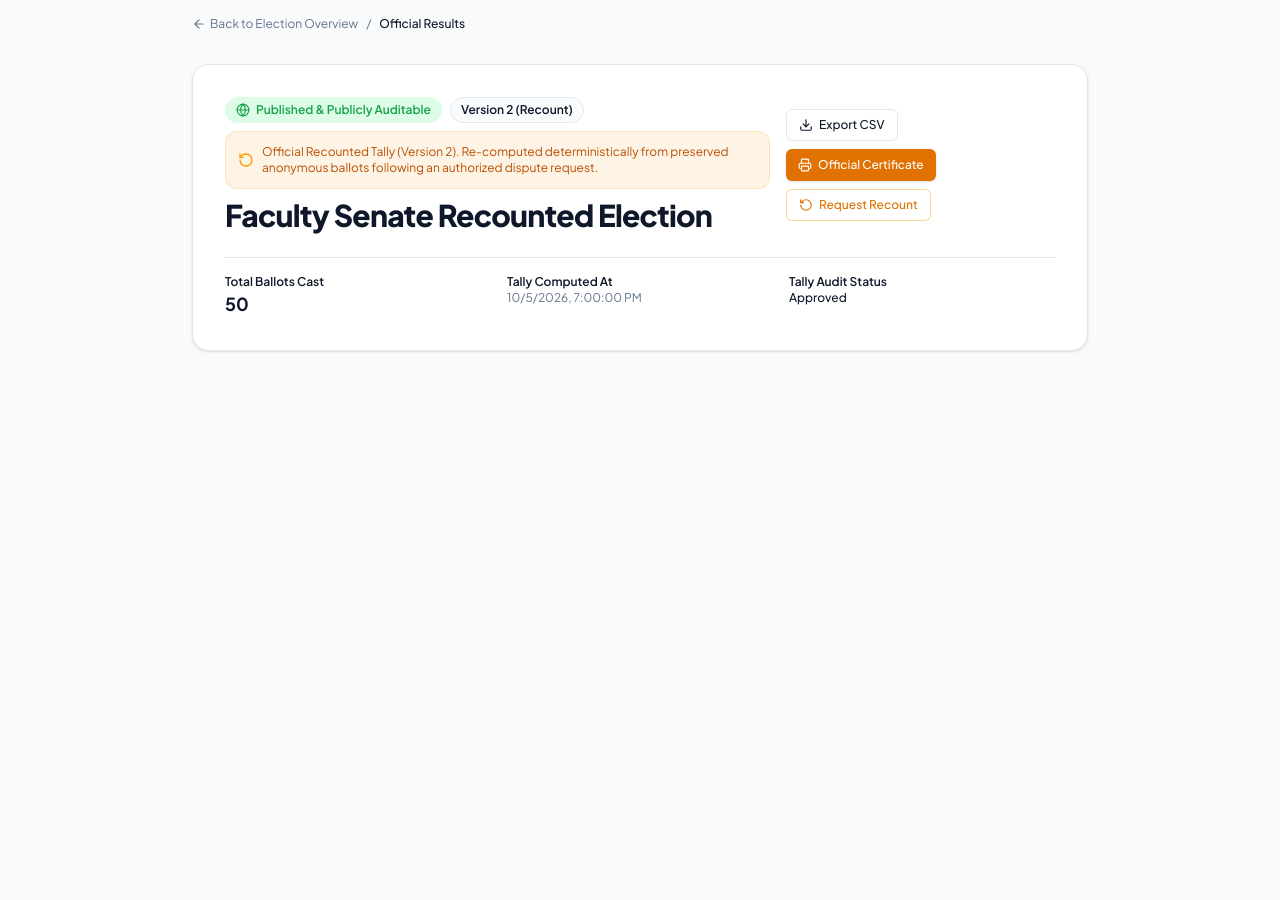
Test case: Recount Integration on ElectionResultsPage › renders recount version indicator, notice banner, and opens recount modal on button click
The width and height of the screenshot is (1280, 900).
Check: the text "Version 2 (Recount)" is shown, box [450,97,584,123]
Check: the text "Official Recounted Tally (Version 2)" is shown, box [262,144,757,176]
// Click opens modal
Click the button "Request Recount".
click(858, 205)  # box [786,189,931,221]
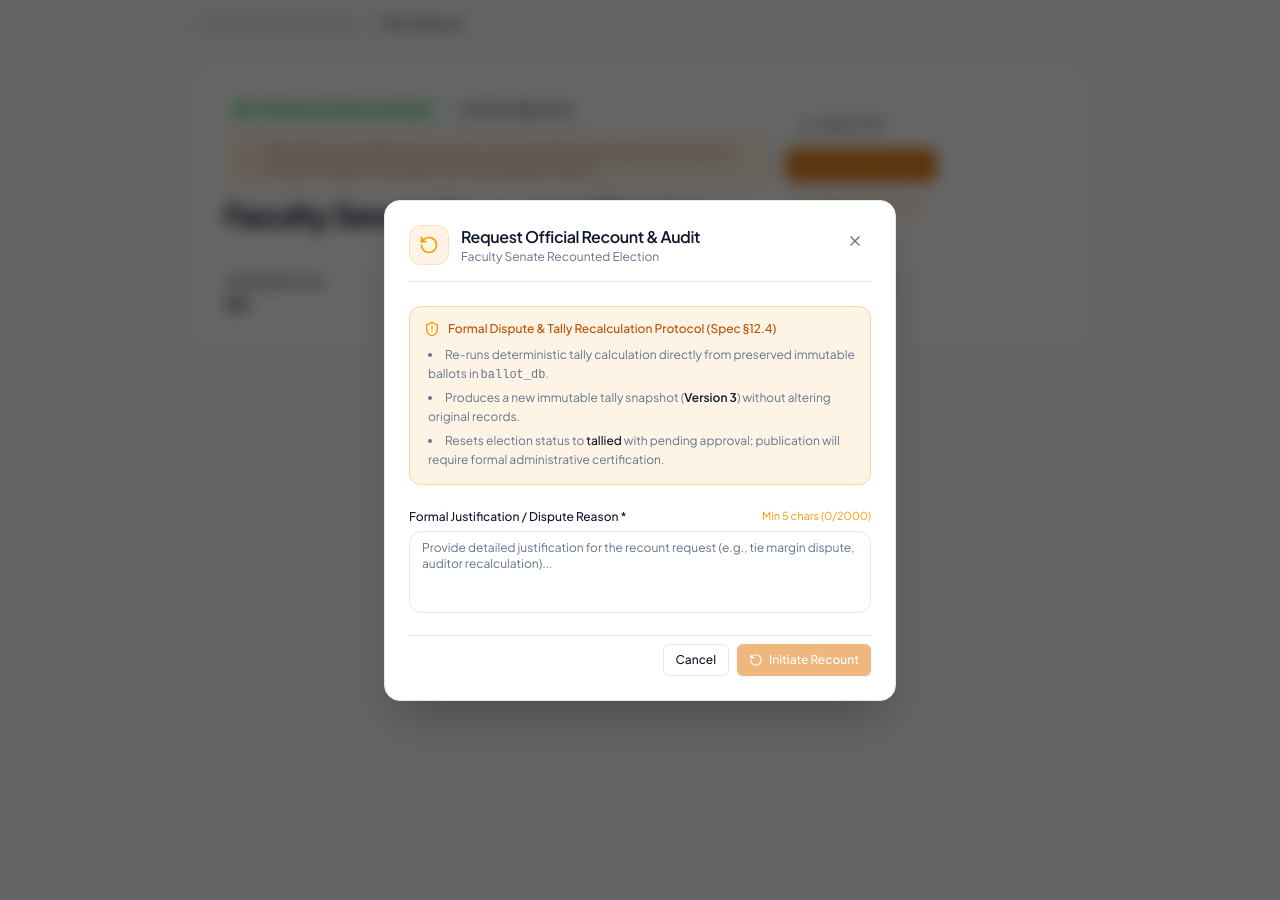
Check: the heading "Request Official Recount & Audit" is shown, box [461,224,700,248]
